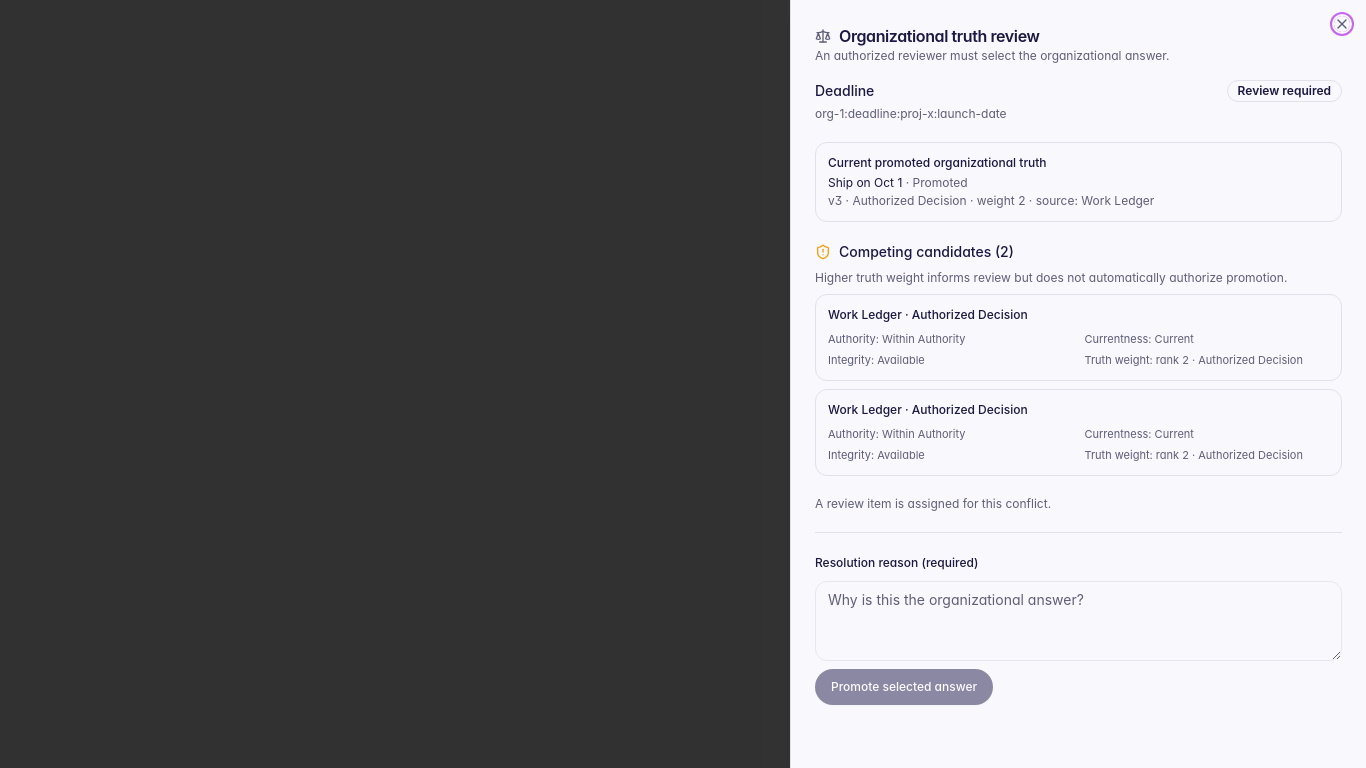
Test: Organizational Truth Review — drawer › an open conflict WITH a current promoted truth shows it distinctly + what the selection would replace
Expected: the element with test id "org-truth-drawer-current" shows "Ship on Oct 1", x1=828 y1=175 x2=902 y2=190
Expected: the element with test id "org-truth-drawer-current" shows "v3", x1=828 y1=175 x2=1154 y2=208
Step 1. Click the 1st button with test id "org-truth-candidate" → (928, 314), box x1=815 y1=294 x2=1342 y2=381
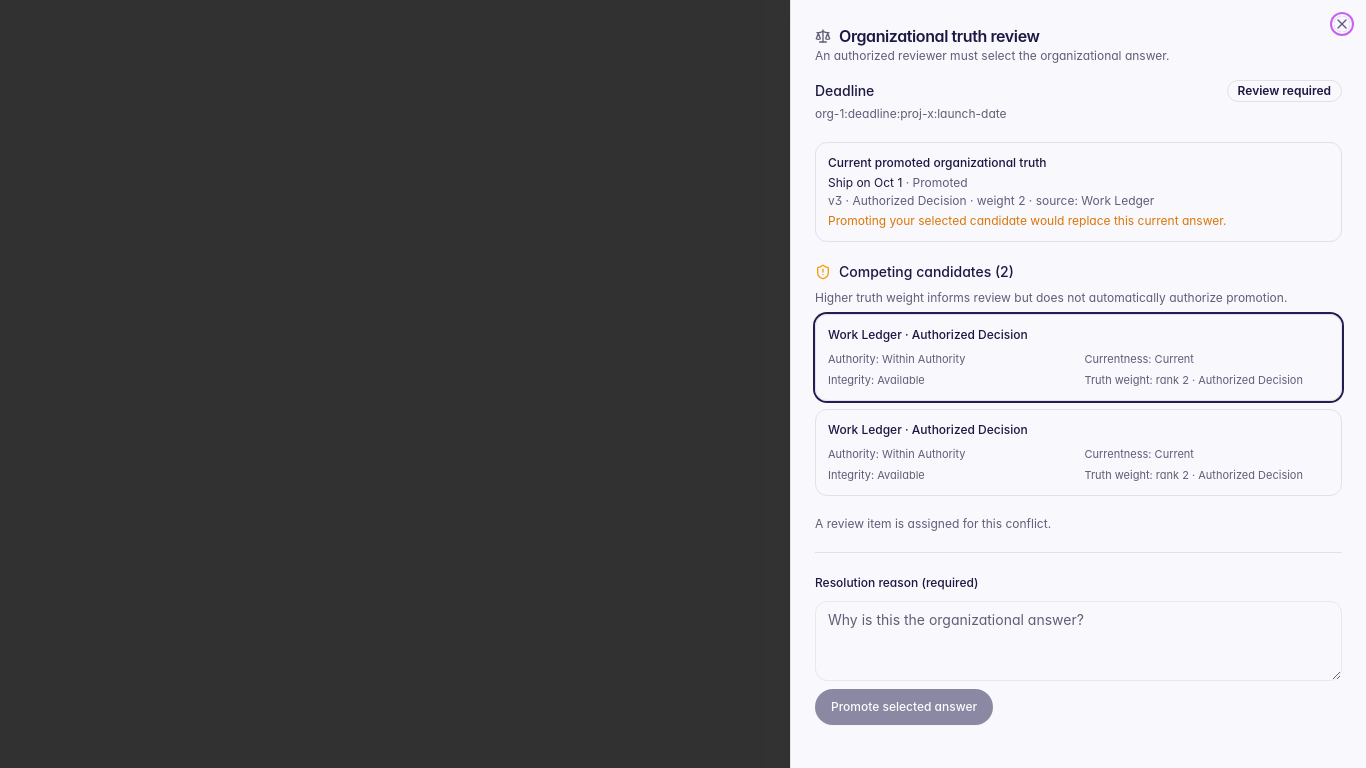
Expected: the text with test id "org-truth-drawer-would-replace" is shown, x1=828 y1=213 x2=1226 y2=228
